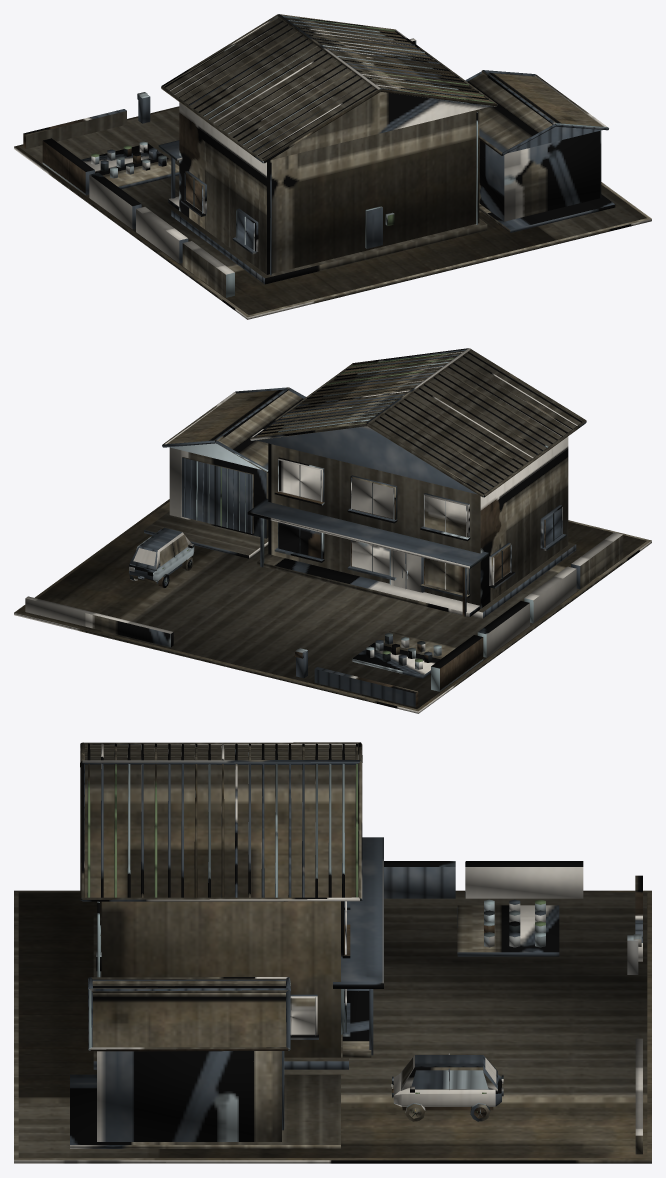
Rendered from rural_house_001.lod1.obj.
3 renders of one model, top to bottom at view 1: azimuth 30°, elevation 25°; view 2: azimuth 150°, elevation 25°; view 3: azimuth 270°, elevation 25°, orthographic. The views are drawn at different scales.
Parts seen in each view (by area): view 1: rural_house_001; view 2: rural_house_001; view 3: rural_house_001.
Boxes of the visible parts, box(x1,y1,x2,y2) form: rural_house_001: box(14, 14, 651, 319); rural_house_001: box(14, 348, 651, 713); rural_house_001: box(14, 742, 651, 1163).
Bounding box in the file's own units: 20 × 8.26 × 20.
1 material, 1 textured.
